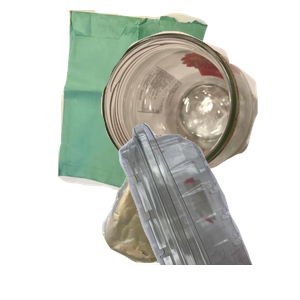glass: (98, 29, 300, 198)
paper: (55, 10, 255, 190)
plastic: (71, 120, 300, 300)
trash: (99, 155, 268, 300)
